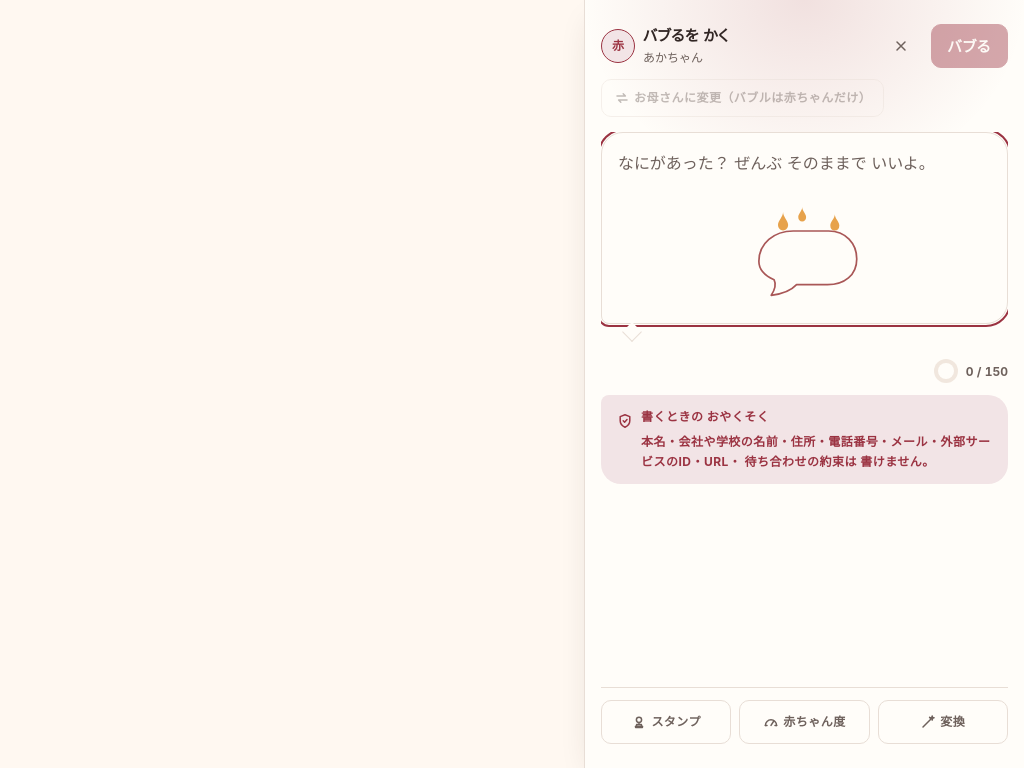
Test: composer behavior after component extraction › renders evaluation results and invalidates them when the body changes
Type "つかれた" into the text box. click: (804, 228)
box: [601,132,1008,324]
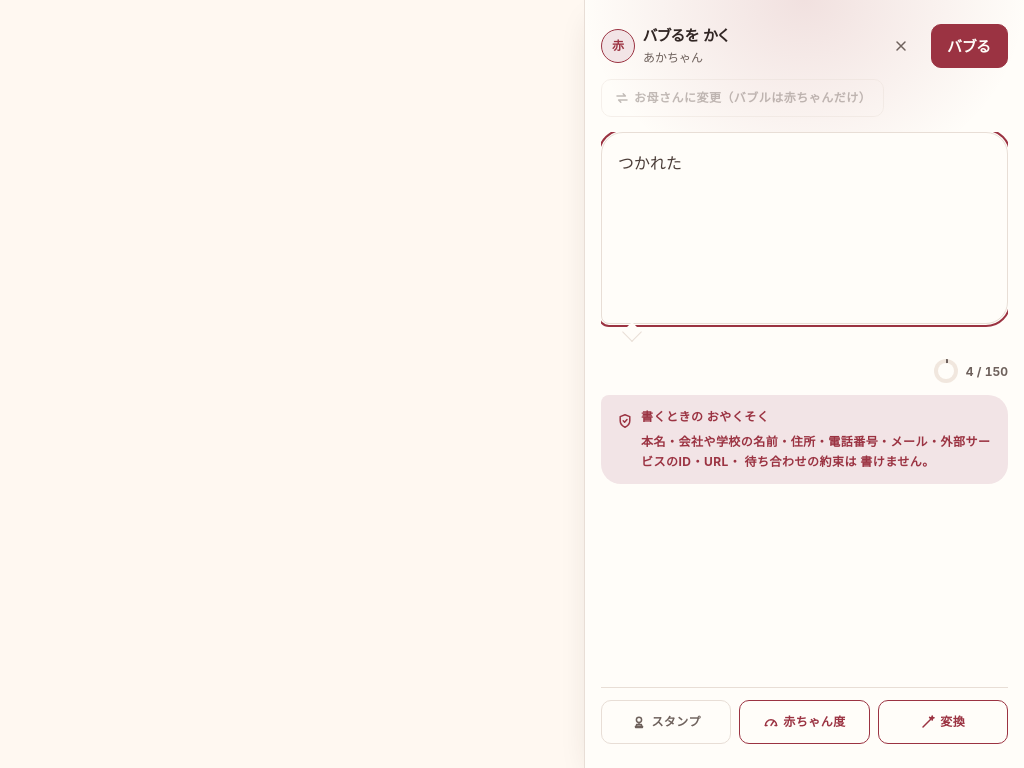
Click the button "赤ちゃん度". click: (804, 722)
box: [739,700,870,744]
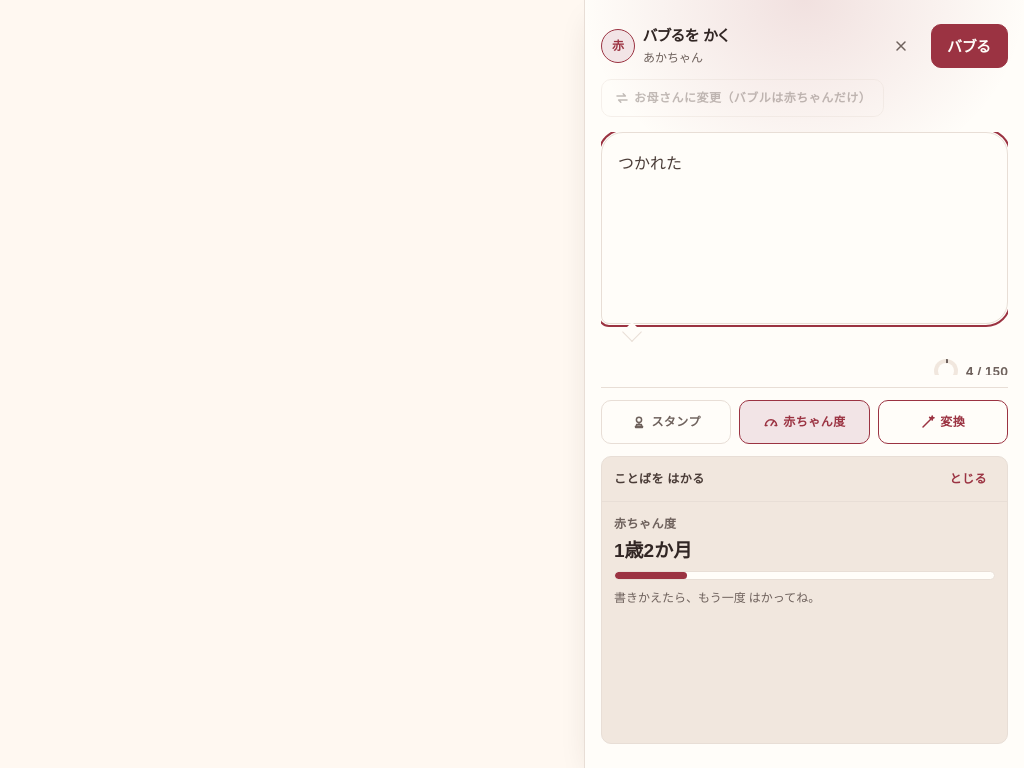
Now the text "1歳2か月" is shown, box [614,540,692,561]
Replace the text in the text box with "ねむい". click: (804, 228)
box: [601,132,1008,324]
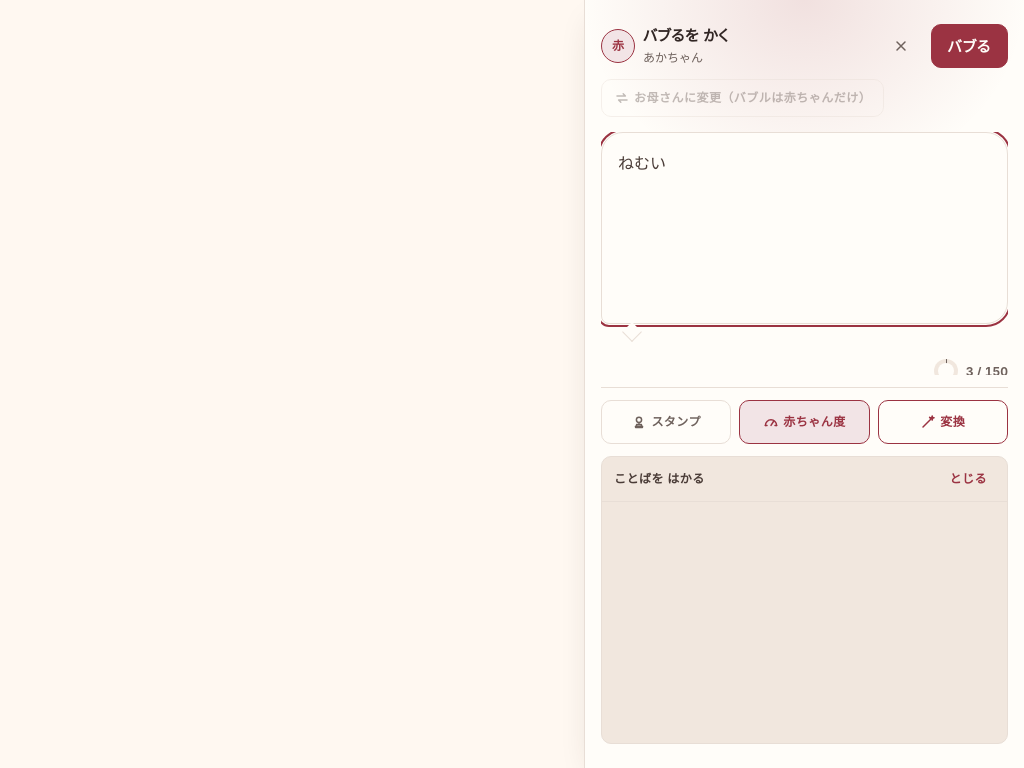
Now the text "1歳2か月" is gone
